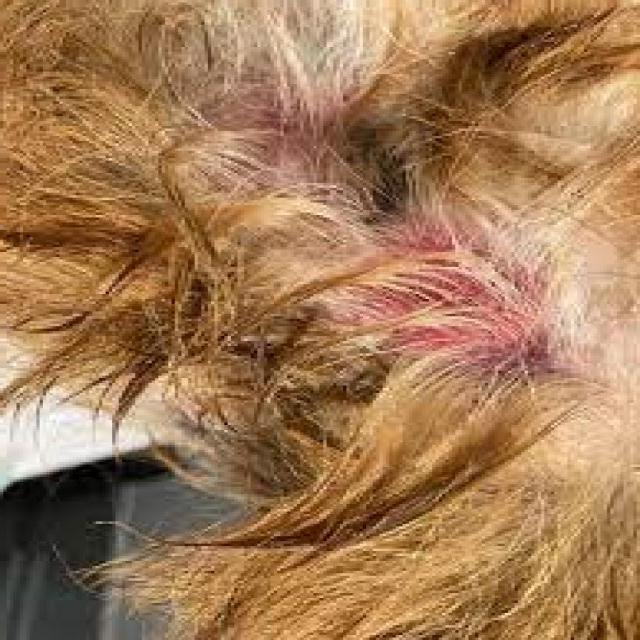allergic dermatitis: (326, 215, 546, 378), (217, 78, 334, 198)
